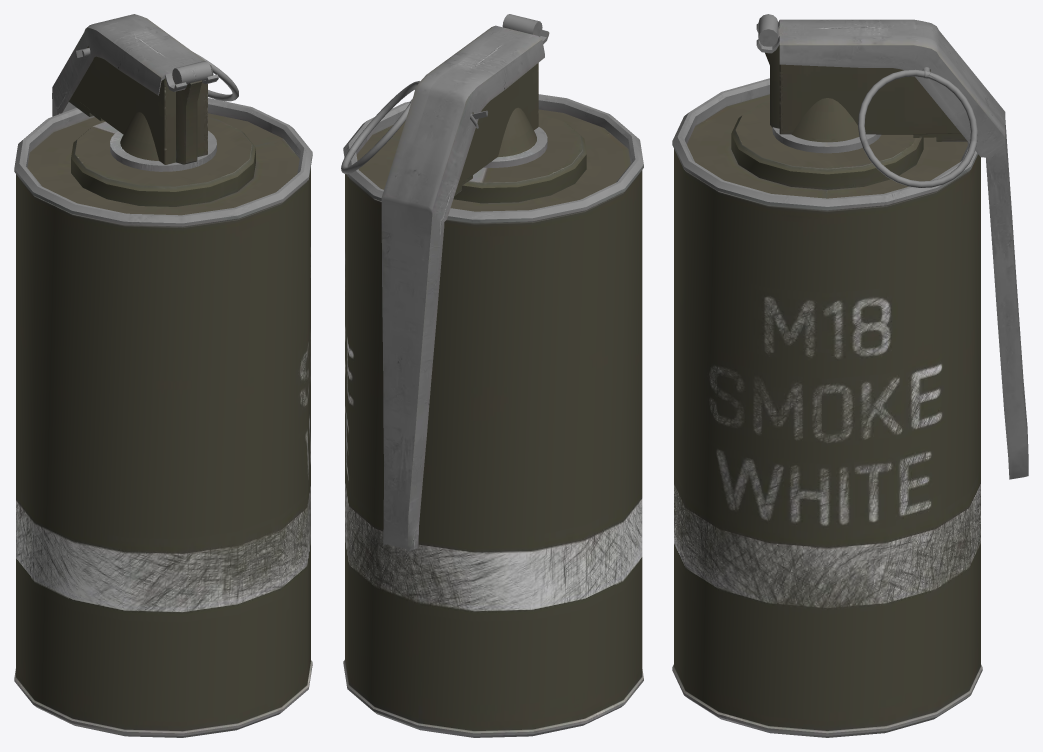
The model's file is ge_smoke.gltf.
3 views of the same model, side by side, from view 1: azimuth 30°, elevation 25°; view 2: azimuth 150°, elevation 25°; view 3: azimuth 270°, elevation 25° (orthographic). The views are drawn at different scales.
Parts seen in each view (by area): view 1: SmokeGrenade, Pin; view 2: SmokeGrenade, Pin; view 3: SmokeGrenade, Pin.
Boxes of the visible parts, box(x1,y1,x2,y2) form: SmokeGrenade: box(14, 14, 312, 737); Pin: box(74, 48, 238, 101); SmokeGrenade: box(343, 14, 643, 737); Pin: box(341, 81, 487, 174); SmokeGrenade: box(672, 14, 1028, 737); Pin: box(858, 67, 977, 187).
Size of the model in its own units: 0.0653 by 0.1513 by 0.0749.
1 material, 1 textured.
